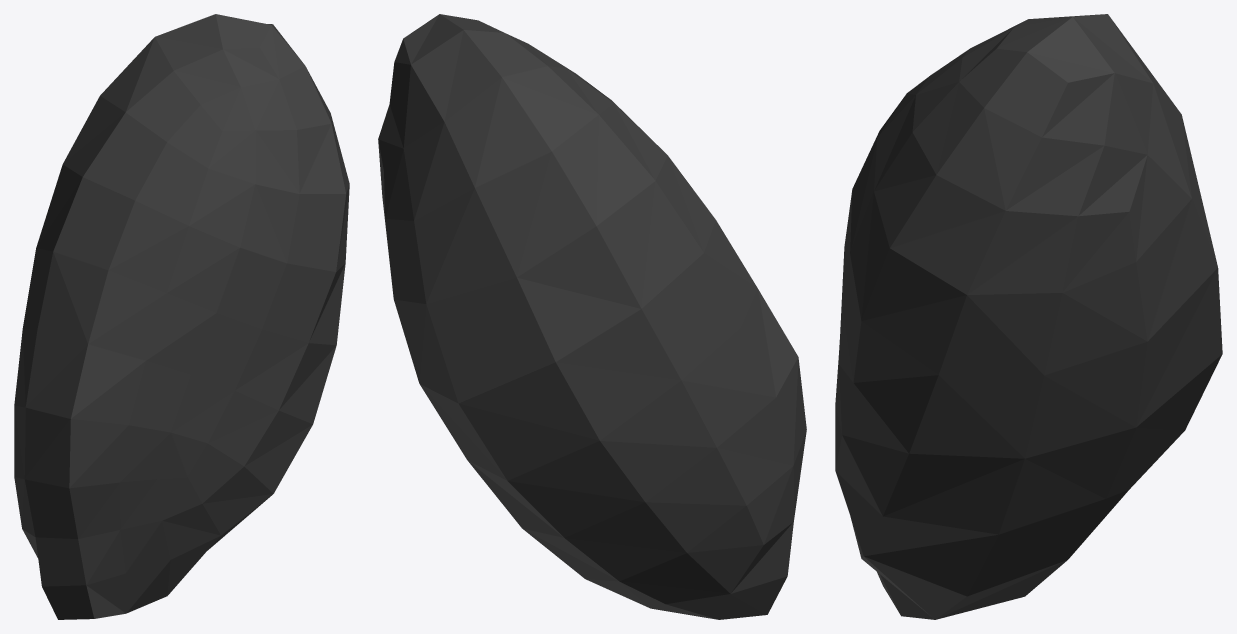
Rendered from LFL_humerus4.glb.
3 renders of one model, left to right at view 1: azimuth 30°, elevation 25°; view 2: azimuth 150°, elevation 25°; view 3: azimuth 270°, elevation 25°, orthographic. The views are drawn at different scales.
Parts seen in each view (by area): view 1: LFL_humerus4; view 2: LFL_humerus4; view 3: LFL_humerus4.
Boxes of the visible parts, bbox=[...] form: LFL_humerus4: bbox=[14, 14, 349, 619]; LFL_humerus4: bbox=[378, 14, 806, 619]; LFL_humerus4: bbox=[835, 14, 1222, 619].
Size of the model in its own units: 5.25 by 7.7 by 3.94.
1 material, 1 textured.
